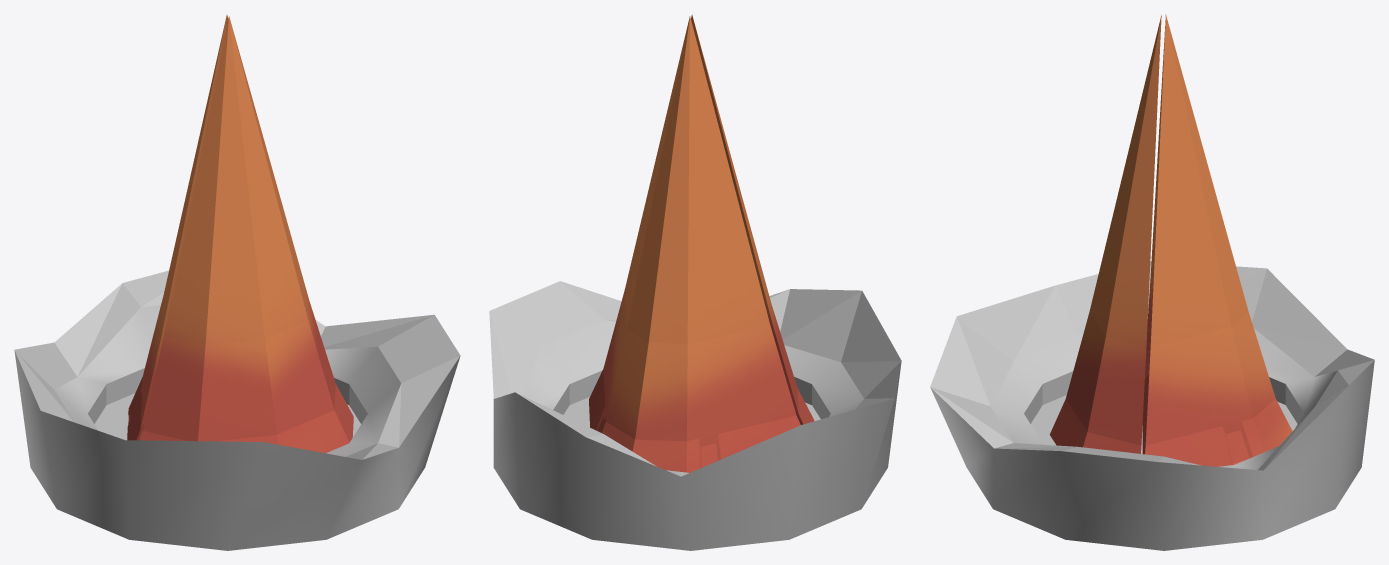
The model's file is level 1 Bird Beak.fbx.
3 views of the same model, side by side, from view 1: azimuth 30°, elevation 25°; view 2: azimuth 150°, elevation 25°; view 3: azimuth 270°, elevation 25° (orthographic).
Visible parts, largest first — view 1: BentMetal001, BottomBeak001, TopBeak001; view 2: BentMetal001, TopBeak001, BottomBeak001; view 3: BentMetal001, TopBeak001, BottomBeak001.
Boxes of the visible parts, box(x1,y1,x2,y2) form: BentMetal001: box(14, 270, 460, 550); BottomBeak001: box(139, 16, 353, 453); TopBeak001: box(127, 15, 228, 440); BentMetal001: box(489, 281, 901, 550); TopBeak001: box(589, 16, 800, 472); BottomBeak001: box(691, 14, 814, 424); BentMetal001: box(930, 261, 1374, 550); TopBeak001: box(1142, 14, 1292, 466); BottomBeak001: box(1049, 15, 1161, 453).
Bounding box in the file's own units: 8.92 × 9.65 × 8.58.
Materials: 1 (1 with a texture image).
